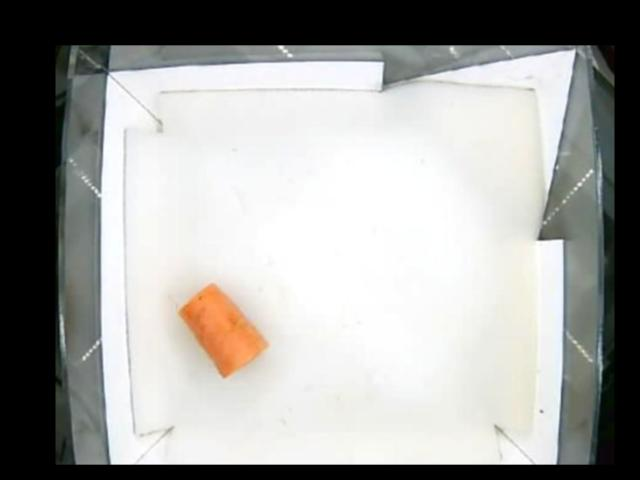Carrot: (179, 282, 270, 379)
